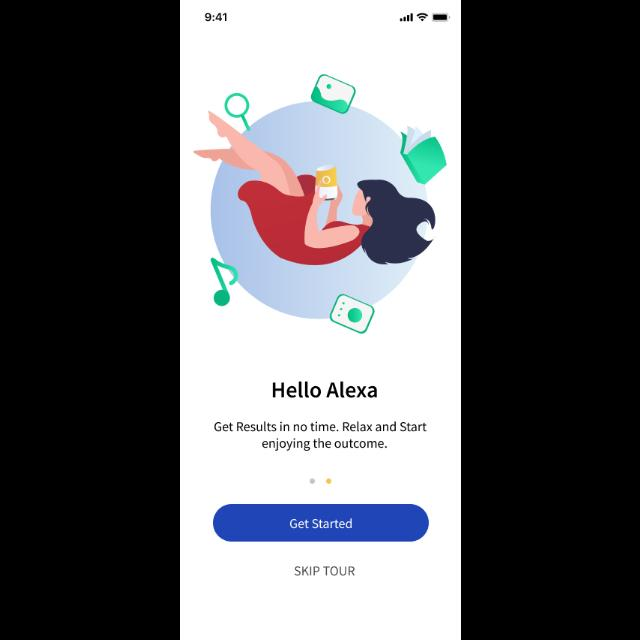image: (193, 75, 447, 335)
pageindicator: (309, 478, 331, 484)
text: (214, 421, 426, 451), (272, 382, 376, 398), (294, 566, 354, 576)
textbutton: (212, 504, 430, 542)
uppertaskbar: (204, 13, 450, 23)
